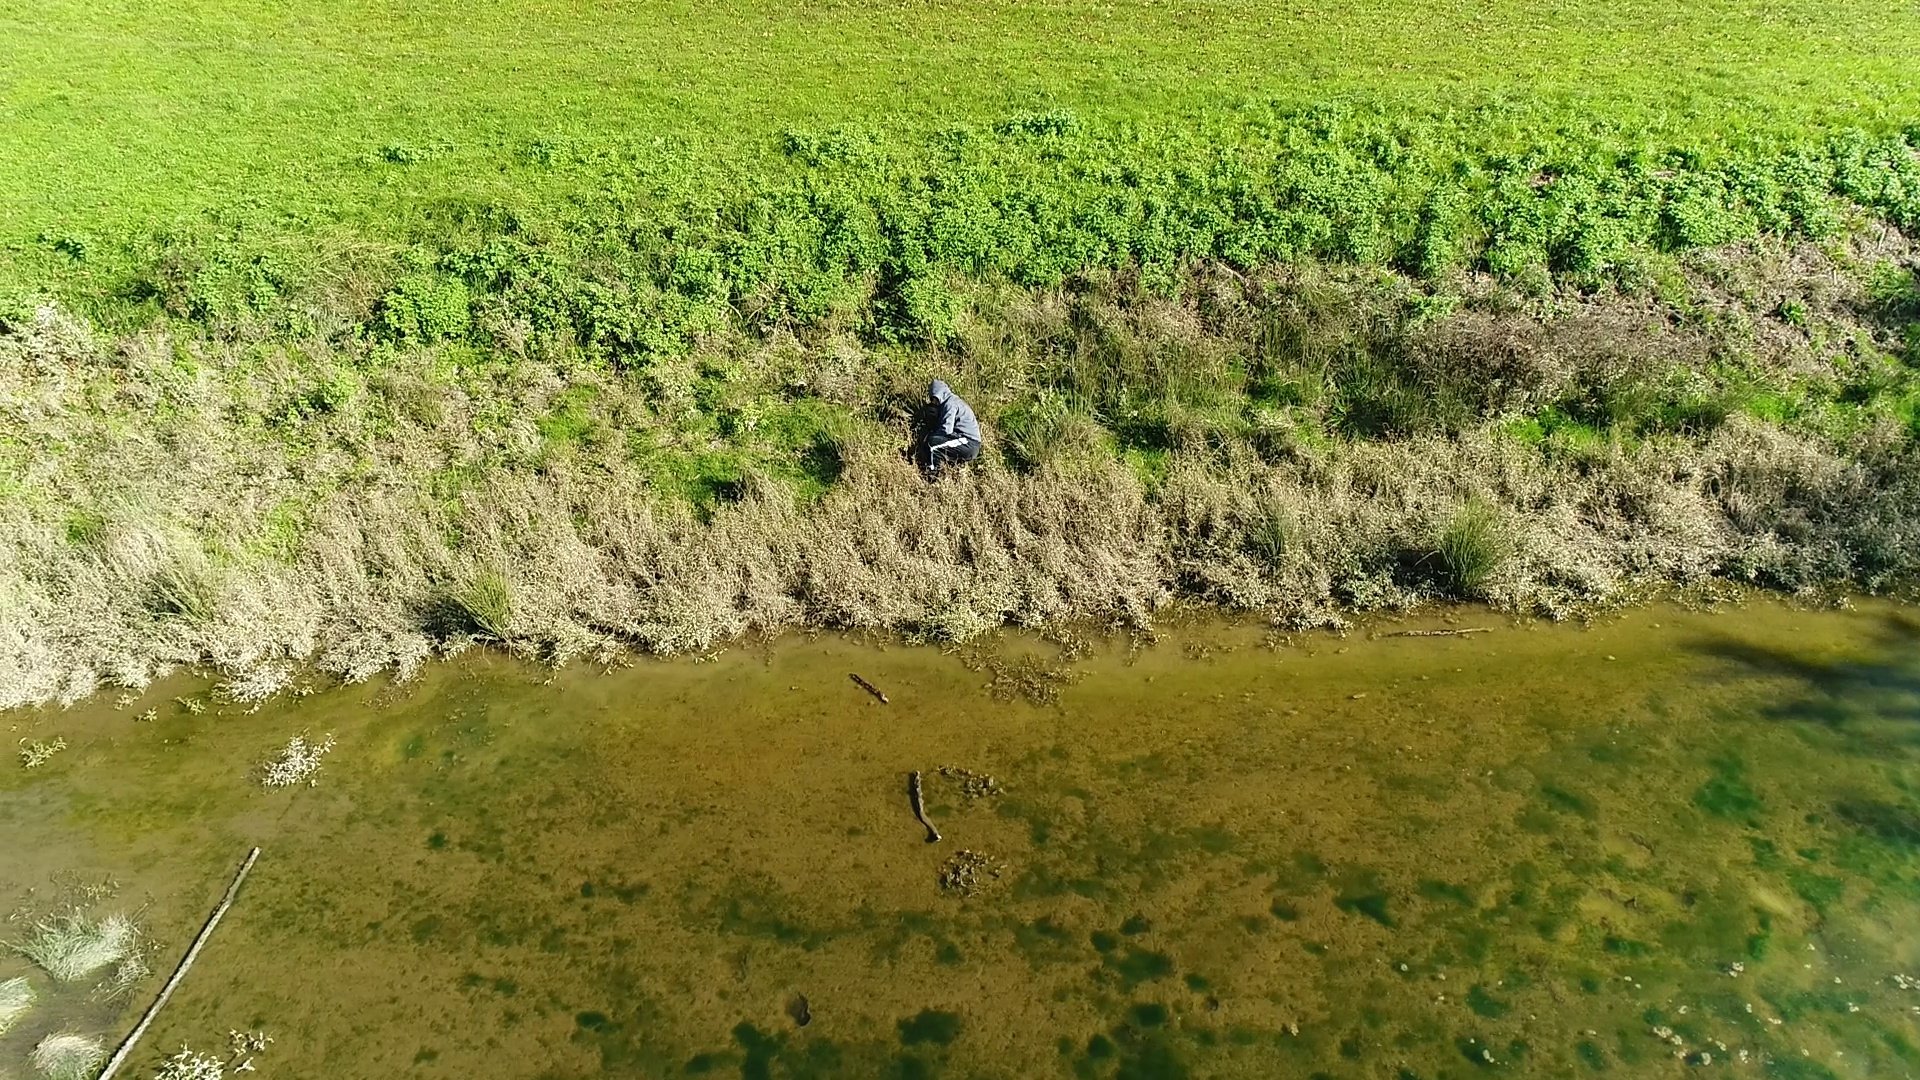not_defined: (920, 378, 981, 483)
